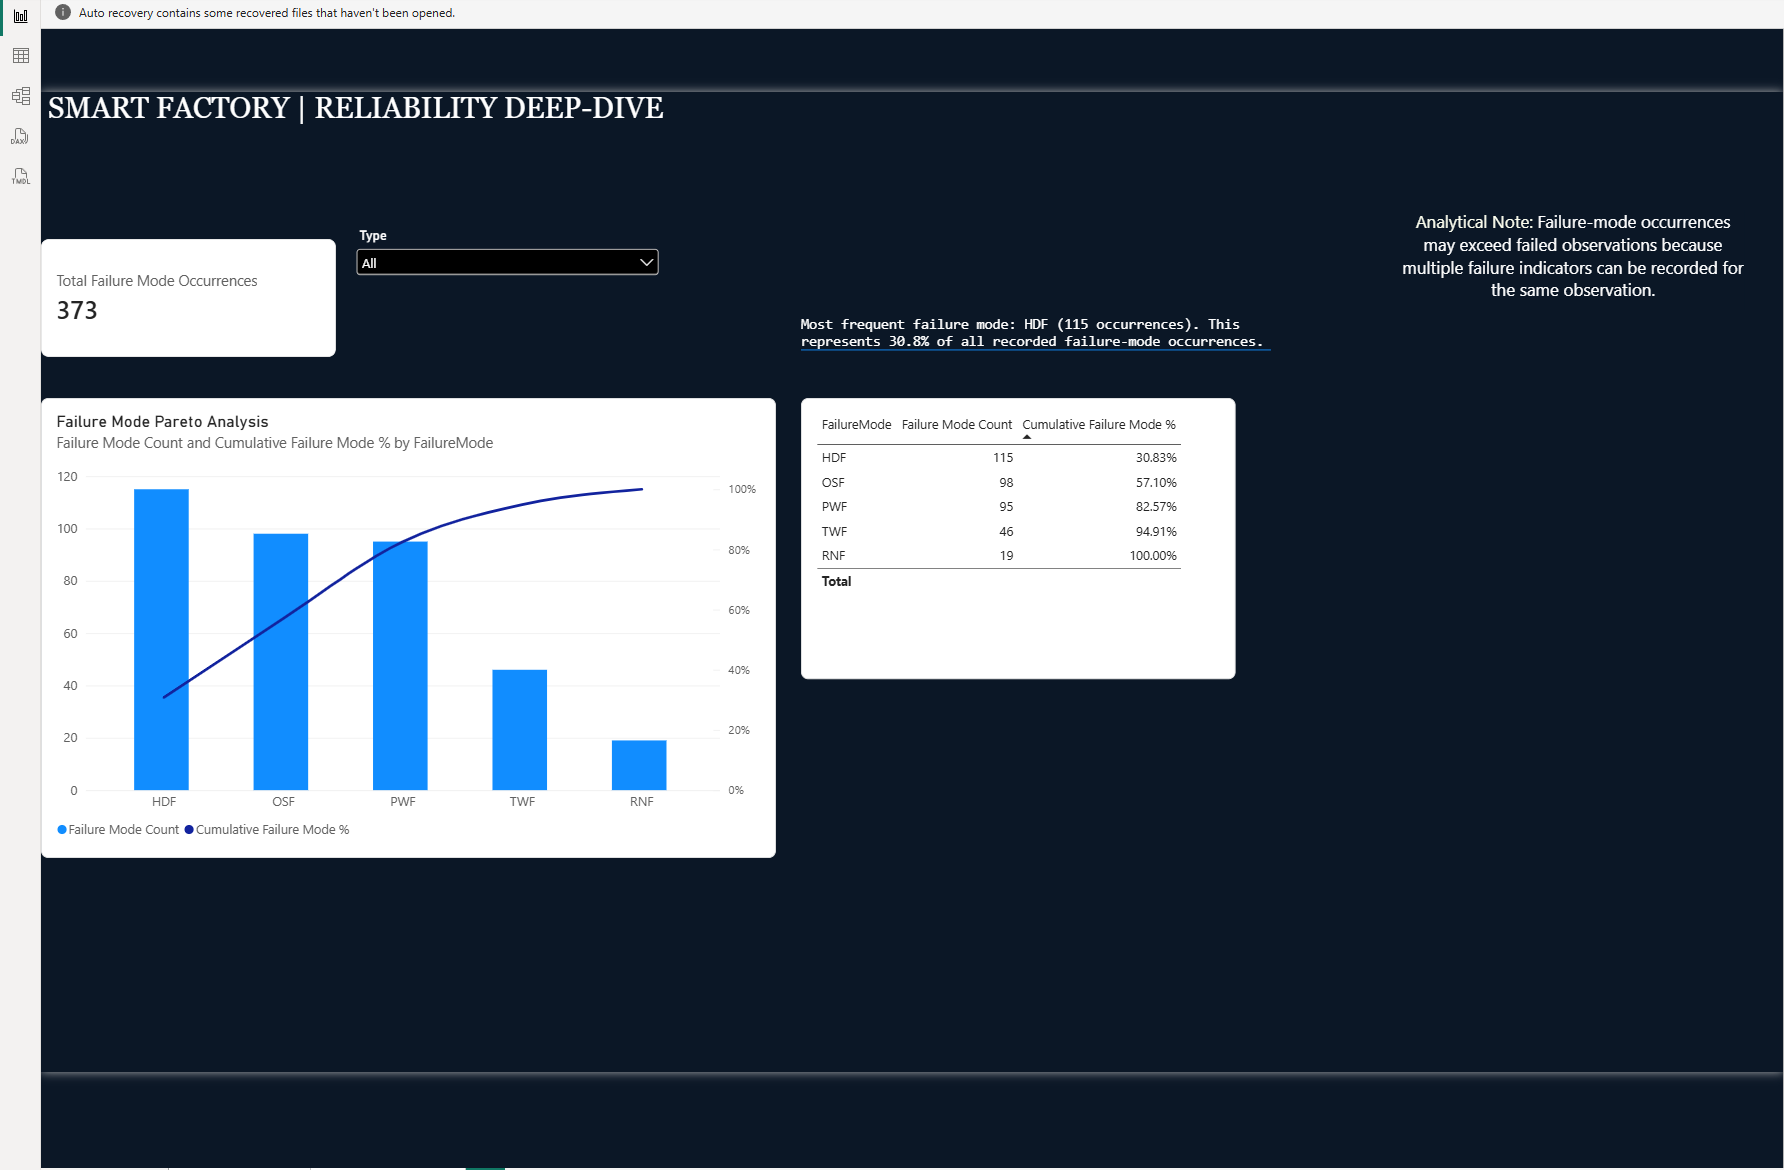

Layout of this report page (visuals, bound fields, positions):
{"tool":"powerbi","page":{"name":"Reliability Deep-Dive","canvas":[1920,1080],"ordinal":1},"visuals":[{"type":"slicer","fields":{"Values":["DimProductType.Type"]},"box":[342.8,149.9,342.8,140],"z":3000},{"type":"tableEx","fields":{"Values":["DimFailureMode.FailureMode","DimFailureMode.Failure Mode Count","DimFailureMode.Cumulative Failure Mode %"]},"box":[837.7,337.3,479.4,309.7],"z":8000},{"type":"cardVisual","fields":{"Data":["DimFailureMode.Total Failure Mode Occurrences"]},"box":[0,162,325.1,130.1],"z":10000},{"type":"lineClusteredColumnComboChart","title":"Failure Mode Pareto Analysis","fields":{"Category":["DimFailureMode.FailureMode"],"Y":["DimFailureMode.Failure Mode Count"],"Y2":["DimFailureMode.Cumulative Failure Mode %"]},"box":[0,337.3,809.7,507.2],"z":11000},{"type":"textbox","box":[1500,130.1,376.9,110.2],"z":11001},{"type":"textbox","title":"KEY RELIABILITY INSIGHT","box":[837.7,245.8,518,91.5],"z":11002},{"type":"textbox","box":[0,0,753.9,149.9],"z":11003}]}

Visuals, with their boxes in screenshot pixels (x1, y1, x2, y2):
slicer - DimProductType.Type: {"x1": 347, "y1": 221, "x2": 661, "y2": 349}
tableEx - DimFailureMode.FailureMode x DimFailureMode.Failure Mode Count: {"x1": 800, "y1": 393, "x2": 1239, "y2": 676}
cardVisual - DimFailureMode.Total Failure Mode Occurrences: {"x1": 33, "y1": 232, "x2": 330, "y2": 351}
"Failure Mode Pareto Analysis" lineClusteredColumnComboChart: {"x1": 33, "y1": 393, "x2": 774, "y2": 857}
textbox: {"x1": 1407, "y1": 203, "x2": 1752, "y2": 304}
"KEY RELIABILITY INSIGHT" textbox: {"x1": 800, "y1": 309, "x2": 1275, "y2": 393}
textbox: {"x1": 33, "y1": 84, "x2": 723, "y2": 221}
